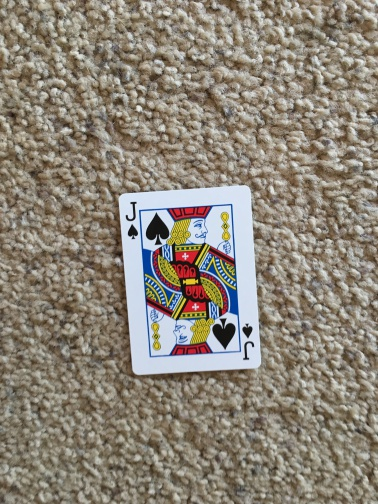jack: (114, 184, 264, 375)
